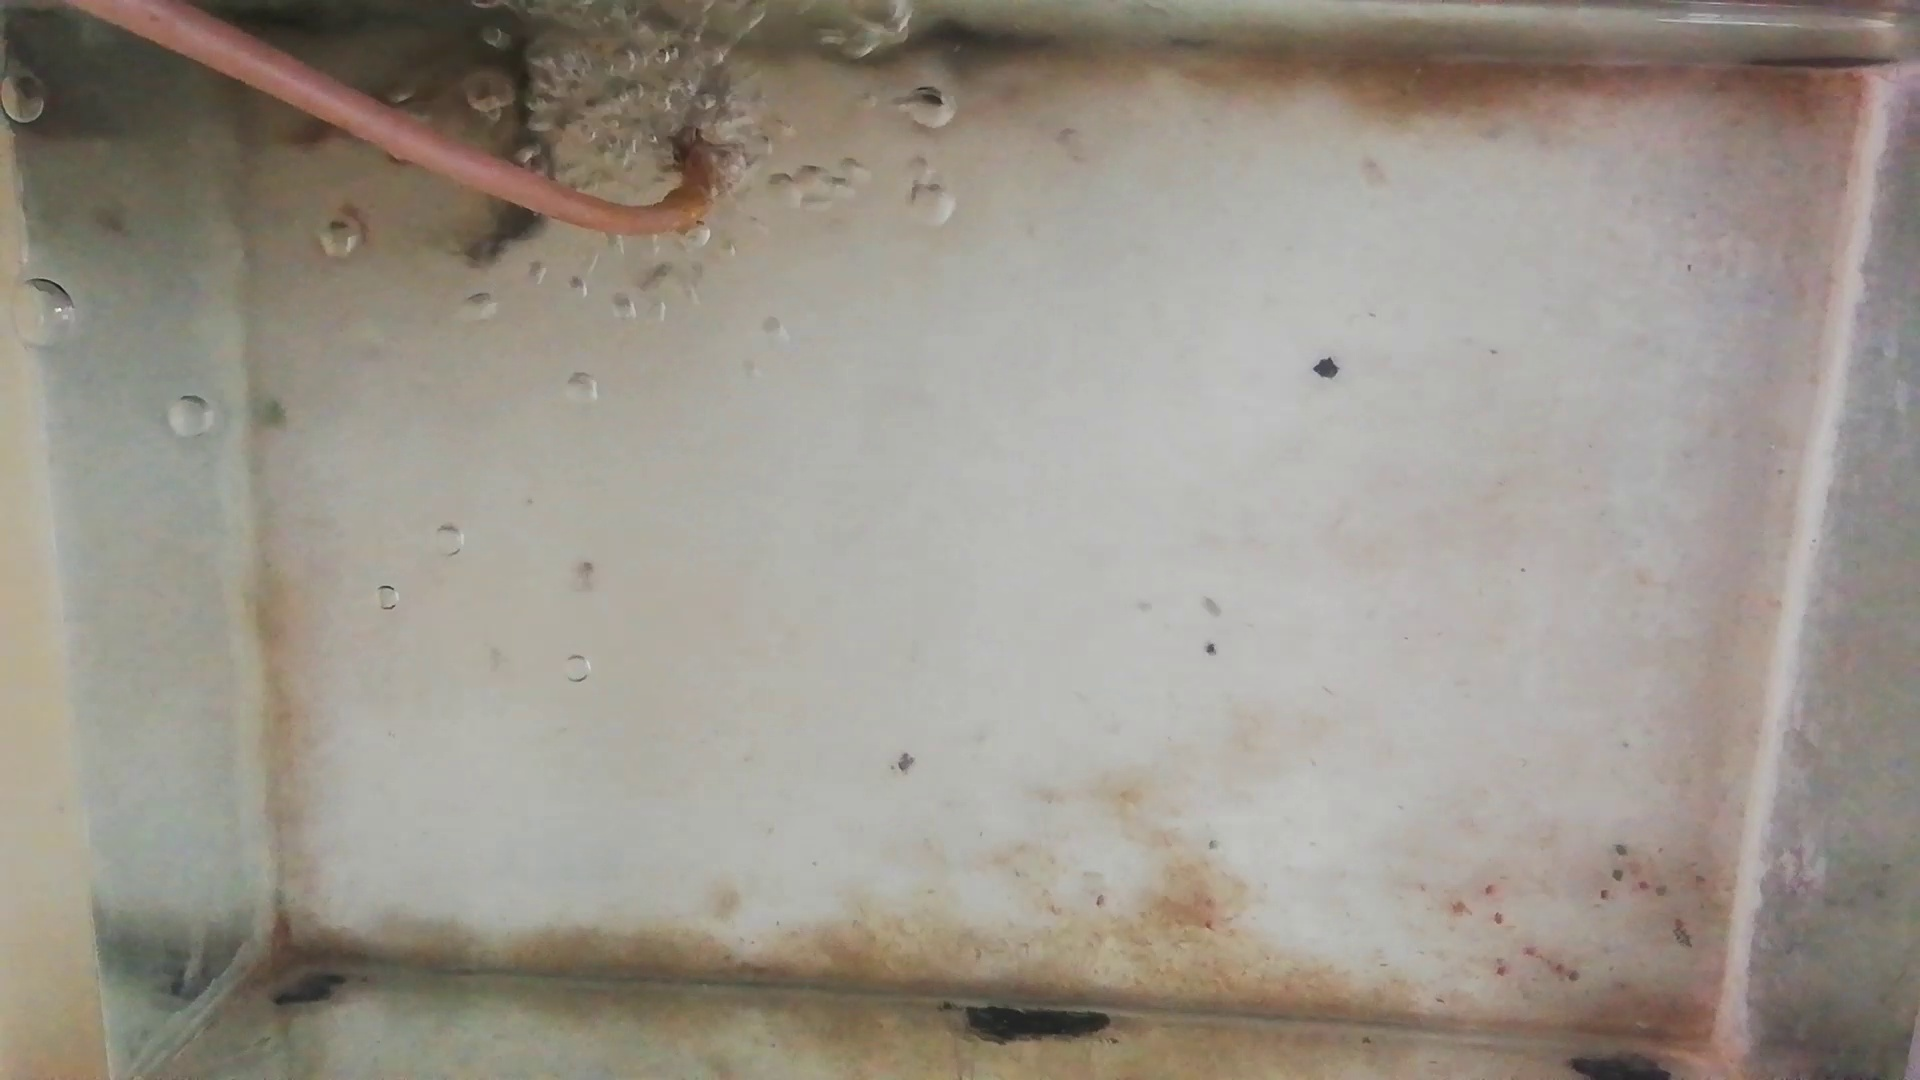fish: (473, 46, 553, 268), (280, 73, 473, 138)
